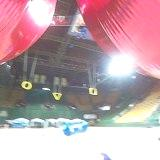Purple_Balloon: (94, 150, 110, 160)
Yellow_Circle_GShape: (22, 80, 32, 90)
Yellow_Square_GShape: (89, 88, 98, 96)
Yellow_Triangle_Gshape: (53, 92, 62, 101)
